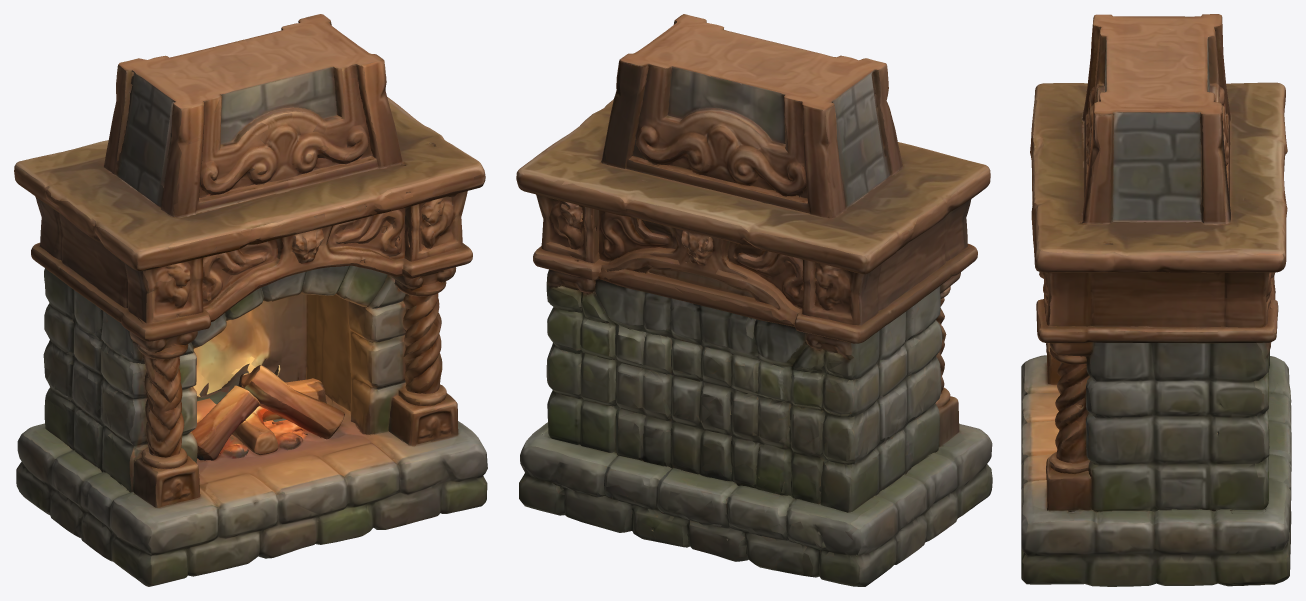
File: door.glb
The picture shows the model from 3 angles, left to right: view 1: azimuth 30°, elevation 25°; view 2: azimuth 150°, elevation 25°; view 3: azimuth 270°, elevation 25°; orthographic projection.
Visible parts, largest first — view 1: geometry_0; view 2: geometry_0; view 3: geometry_0.
Boxes of the visible parts, <box> form: geometry_0: <box>14,14,487,586</box>; geometry_0: <box>516,14,992,586</box>; geometry_0: <box>1021,14,1291,586</box>.
Size of the model in its own units: 1.86 by 2.2 by 1.22.
Materials: 1 (1 with a texture image).
